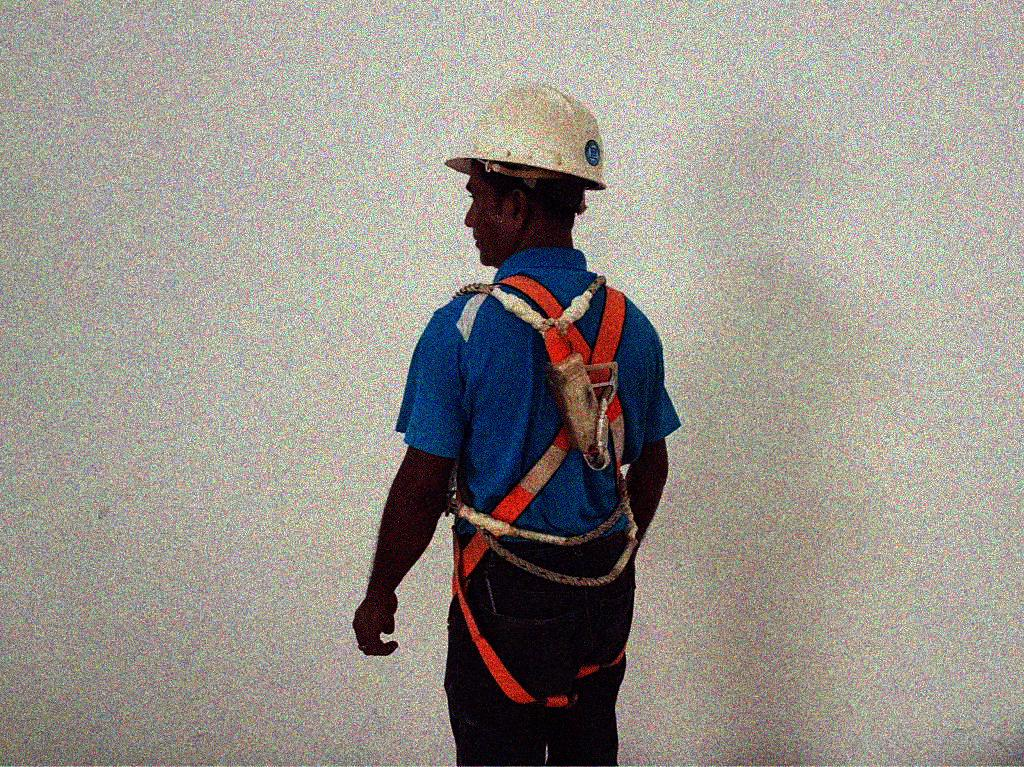helmet: (445, 80, 611, 266)
